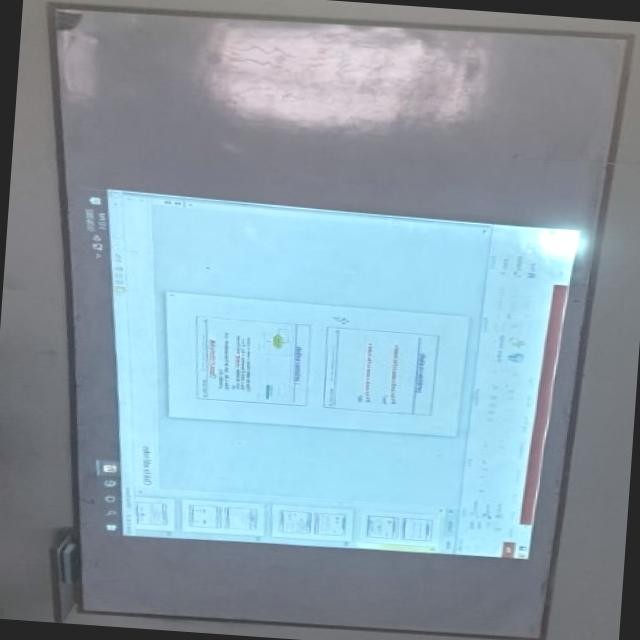Slide: (63, 183, 583, 561)
White-board: (46, 4, 626, 635)
